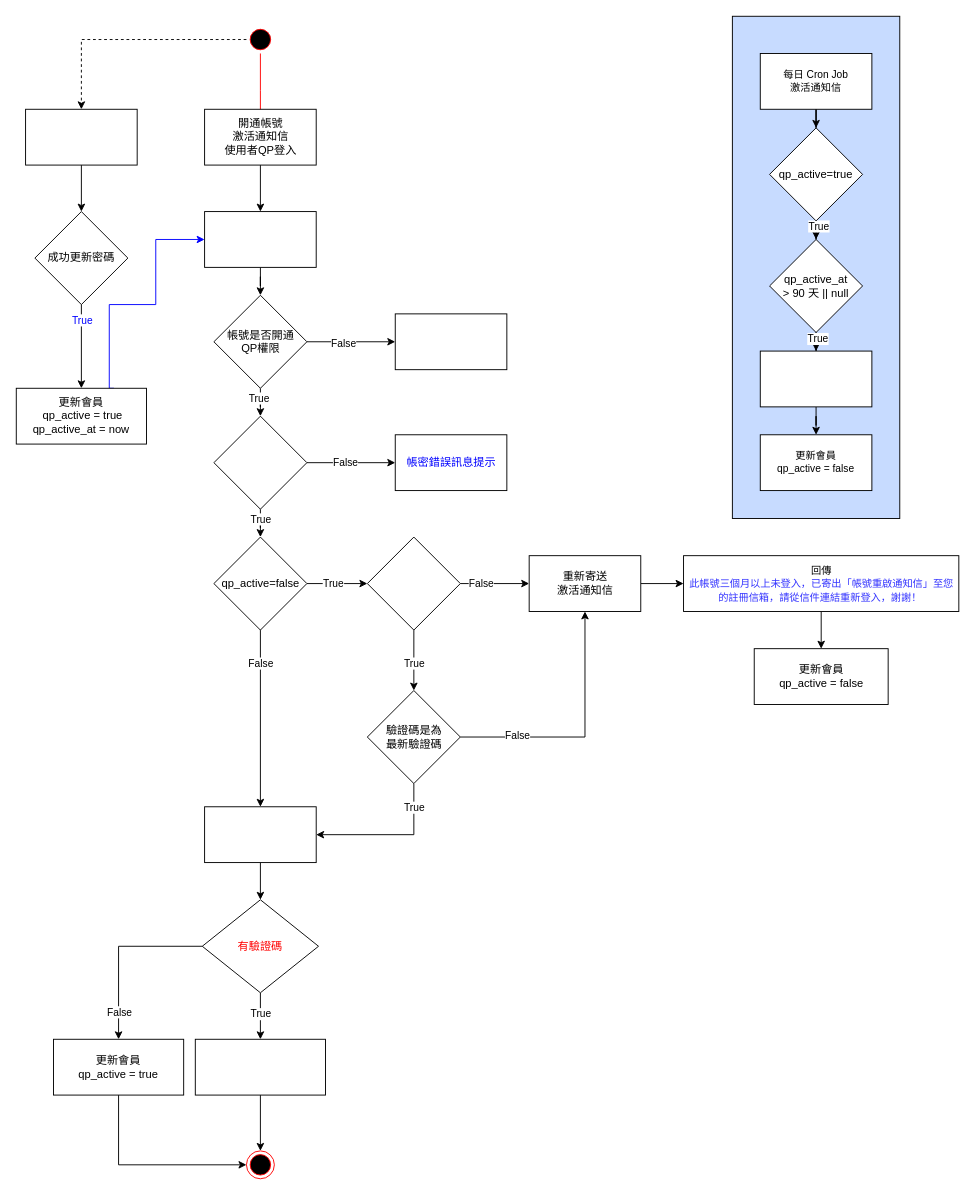
Image size: 976x1195. Some labels were removed from this diagram. The shapes that lost their labels are listed below. From the top down, each one's centre as x and y in pixels, then its label:
[81,136]: 忘記密碼
[260,239]: 登入QP
[450,341]: 回覆訊息
[815,378]: 寄送激活通知信
[260,462]: 帳號密碼 是否正確
[413,583]: 是否有驗證碼
[260,834]: 登入成功
[260,1066]: 更新會員 qp_active = true trueqp_active_at = now
